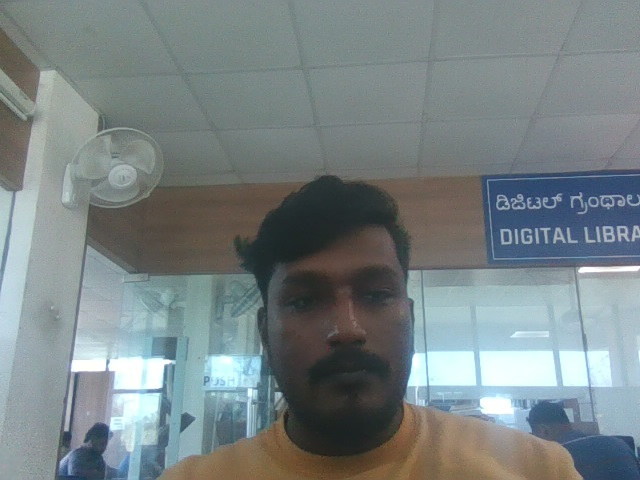real: (240, 152, 446, 444)
